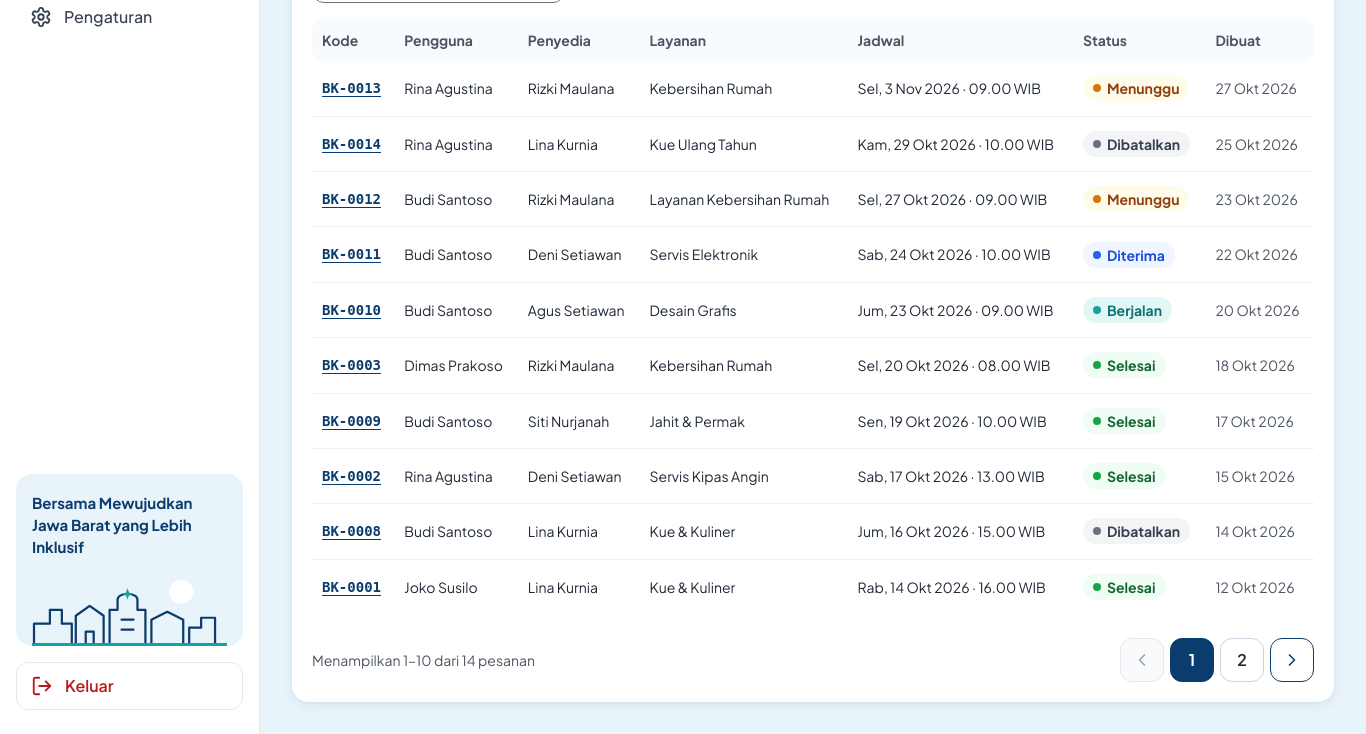
Scenario: Monitoring Pesanan › hanya baca: ringkasan status, terbaru di atas, dan paginasi
The image size is (1366, 734).
(page scrolled)
Expected: the row that starts with "BK-0013" is shown, [322, 73, 381, 104]
Expected: the text "Menampilkan 1–10 dari 14 pesanan" is shown, [312, 649, 535, 671]
Click the link named "Halaman 2, terakhir".
click(1242, 660)  # box [1220, 638, 1264, 682]
(page scrolled)
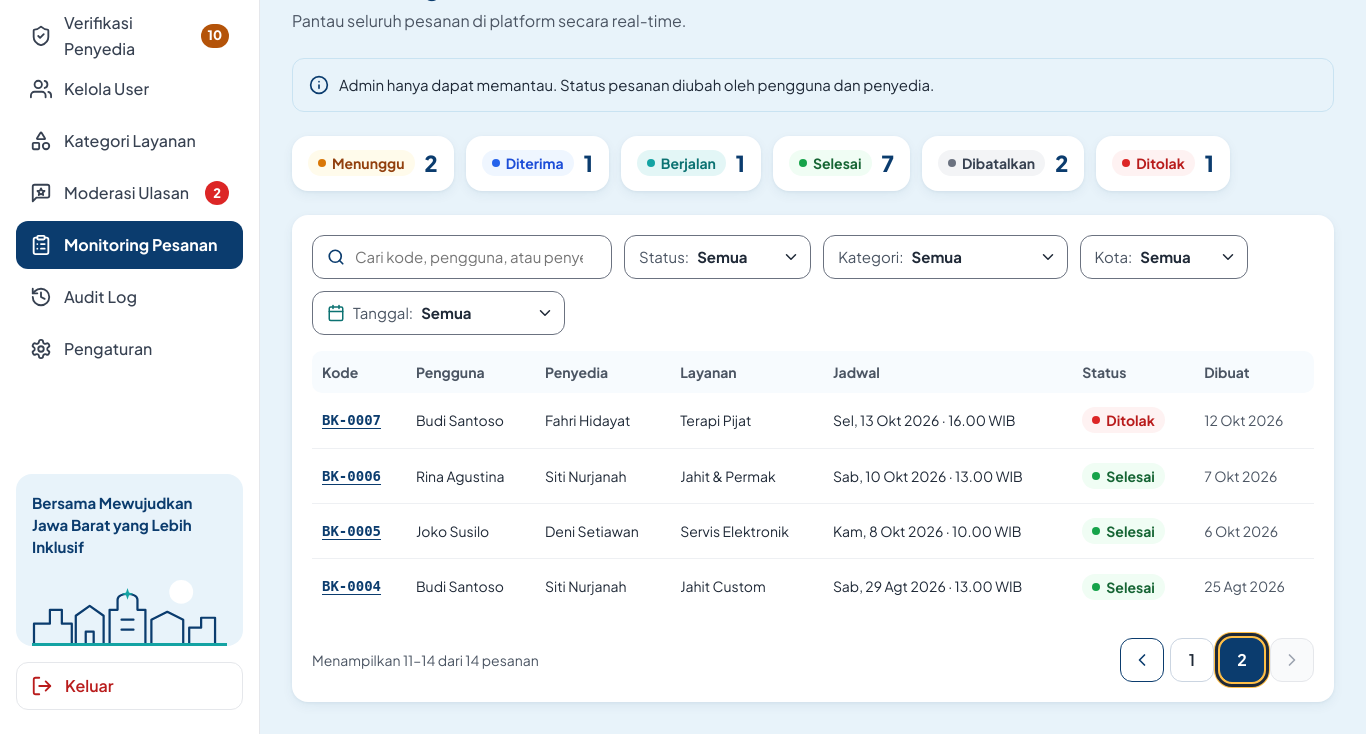
Result: the button "BK-0004" is shown at [322, 571, 381, 602]
